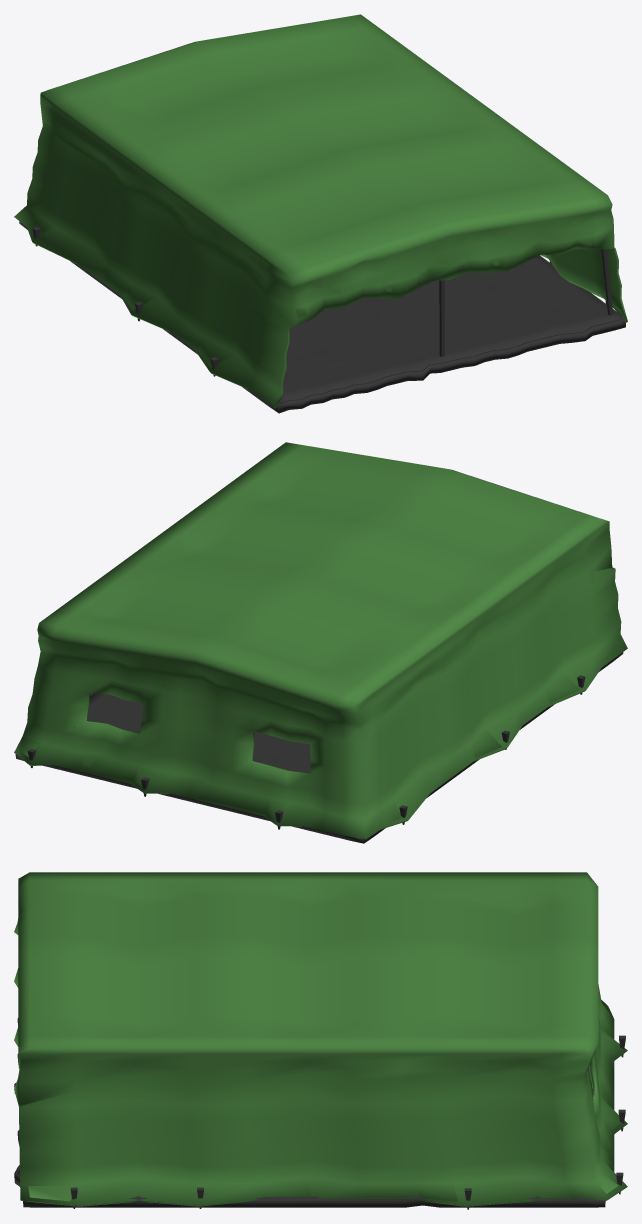
Rendered from Barraca-01.fbx.
3 views of the same model, one above another, from view 1: azimuth 30°, elevation 25°; view 2: azimuth 150°, elevation 25°; view 3: azimuth 270°, elevation 25° (orthographic). The views are drawn at different scales.
Parts seen in each view (by area): view 1: Plane.002; view 2: Plane.002; view 3: Plane.002.
Part boxes in pixels (box(x1,y1,x2,y2)): Plane.002: box(14, 14, 627, 413); Plane.002: box(14, 442, 627, 843); Plane.002: box(14, 872, 627, 1209).
Size of the model in its own units: 1150 by 431 by 1444.
